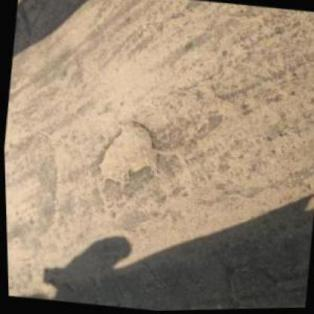Hueco: (92, 114, 163, 192)
